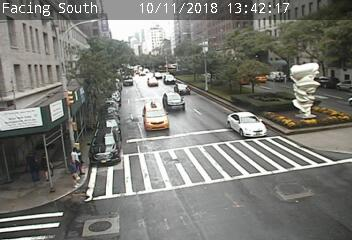car: (89, 127, 121, 166), (227, 111, 267, 138), (143, 104, 169, 131), (163, 92, 185, 111), (174, 83, 190, 95), (164, 75, 176, 84), (147, 77, 158, 86)
